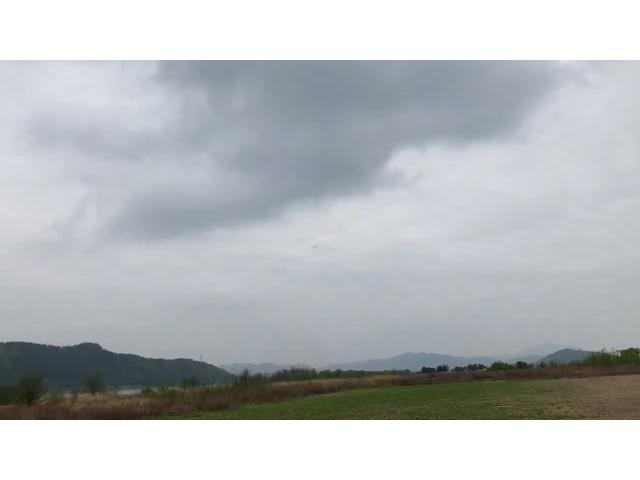Anti-Drone: (304, 241, 330, 249)
